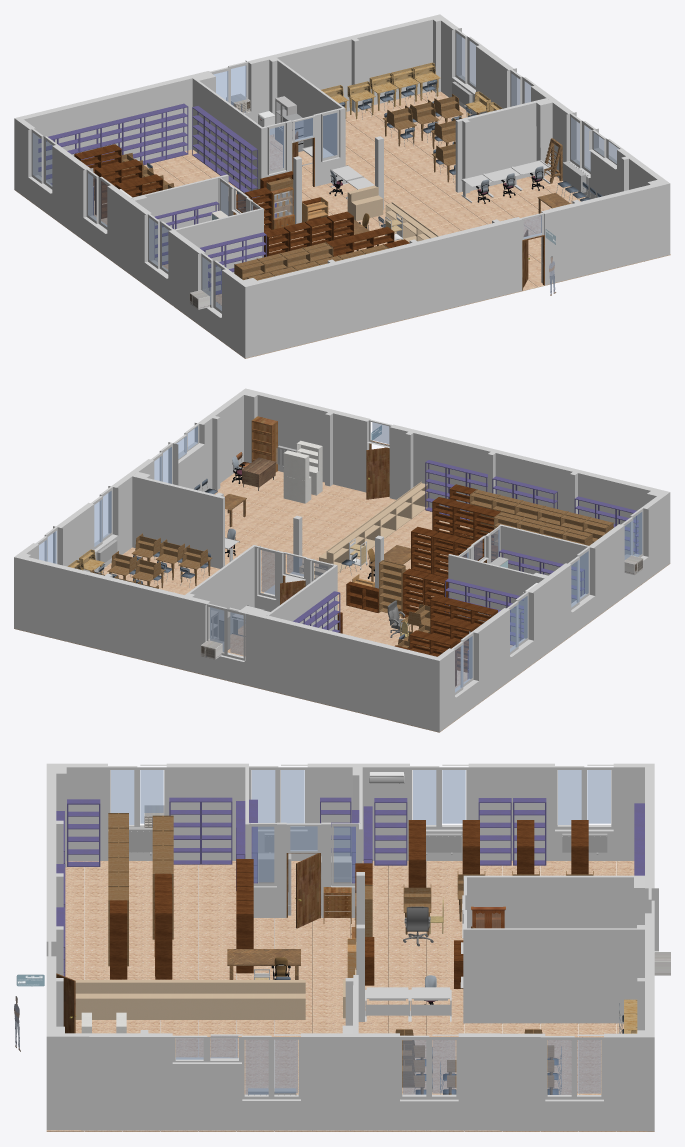
Rendered from current.glb.
The picture shows the model from 3 angles, top to bottom: view 1: azimuth 30°, elevation 25°; view 2: azimuth 150°, elevation 25°; view 3: azimuth 270°, elevation 25°; orthographic projection. The views are drawn at different scales.
Visible parts, largest first — view 1: Geom3D_WALL-EXT-W-001, Geom3D_WALL-EXT-E-001, Geom3D_WALL-EXT-N-001, Geom3D (×19), 3DGeom-1015, Geom3D_CMP_WIN-170X200_WIN-170X200-002 (×8), 3DGeom-1014, Geom3D_WALL-EXT-S-001, Geom3D_WALL-PART-LIB-001, Geom3D_CMP_BS-WD-DS2_BS-WD-DS2-001 (×6), Geom3D_WALL-INT-LIBRARIAN-N-001, Geom3D_WALL-INT-ARCHIVE-W-001 (+13 smaller); view 2: Geom3D_WALL-EXT-E-001, Geom3D_WALL-EXT-W-001, Geom3D_WALL-EXT-N-001, 3DGeom-1014, Geom3D (×11), Geom3D_WALL-EXT-S-001, Geom3D_CMP_WIN-170X200_WIN-170X200-002 (×8), Geom3D_WALL-PART-LIB-001, Geom3D_CMP_BS-WD-DS2_BS-WD-DS2-001 (×5), Geom3D_WALL-INT-ARCHIVE-E-001, Geom3D_WALL-INT-ARCHIVE-W-001, Geom3D_WALL-INT-LIBRARIAN-S-001 (+14 smaller); view 3: Geom3D_WALL-EXT-S-001, Geom3D (×21), Geom3D_WALL-EXT-N-001, 3DGeom-1016, Geom3D_WALL-INT-LIBRARIAN-S-001, 3DGeom-1013, Geom3D_Component#32 (×6), 3DGeom-1014, Geom3D_CMP_WIN-170X200_WIN-170X200-002 (×8), 3DGeom-1015, Geom3D_WALL-INT-LIBRARIAN-N-001, Geom3D_CMP_BS-WD-DS2_BS-WD-DS2-001 (×5) (+11 smaller).
Boxes of the visible parts, <box> form: Geom3D_WALL-EXT-W-001: <box>245,182,670,358</box>; Geom3D_WALL-EXT-E-001: <box>15,14,439,183</box>; Geom3D_WALL-EXT-N-001: <box>14,118,246,357</box>; Geom3D (×19): <box>32,33,590,310</box>; 3DGeom-1015: <box>269,91,471,220</box>; Geom3D_CMP_WIN-170X200_WIN-170X200-002 (×8): <box>28,28,595,317</box>; 3DGeom-1014: <box>357,174,670,306</box>; Geom3D_WALL-EXT-S-001: <box>438,14,669,198</box>; Geom3D_WALL-PART-LIB-001: <box>455,98,547,192</box>; Geom3D_CMP_BS-WD-DS2_BS-WD-DS2-001 (×6): <box>95,164,353,257</box>; Geom3D_WALL-INT-LIBRARIAN-N-001: <box>192,77,262,196</box>; Geom3D_WALL-INT-ARCHIVE-W-001: <box>174,208,263,291</box>; Geom3D_WALL-EXT-E-001: <box>14,556,439,732</box>; Geom3D_WALL-EXT-W-001: <box>245,388,669,554</box>; Geom3D_WALL-EXT-N-001: <box>438,492,670,731</box>; 3DGeom-1014: <box>214,467,443,595</box>; Geom3D (×11): <box>94,440,642,692</box>; Geom3D_WALL-EXT-S-001: <box>14,388,247,572</box>; Geom3D_CMP_WIN-170X200_WIN-170X200-002 (×8): <box>35,442,648,697</box>; Geom3D_WALL-PART-LIB-001: <box>132,475,224,568</box>; Geom3D_CMP_BS-WD-DS2_BS-WD-DS2-001 (×5): <box>402,526,477,672</box>; Geom3D_WALL-INT-ARCHIVE-E-001: <box>456,556,545,641</box>; Geom3D_WALL-INT-ARCHIVE-W-001: <box>501,524,588,603</box>; Geom3D_WALL-INT-LIBRARIAN-S-001: <box>185,545,254,634</box>; Geom3D_WALL-EXT-S-001: <box>46,1033,654,1131</box>; Geom3D (×21): <box>56,770,610,1094</box>; Geom3D_WALL-EXT-N-001: <box>47,763,653,860</box>; 3DGeom-1016: <box>65,861,350,994</box>; Geom3D_WALL-INT-LIBRARIAN-S-001: <box>463,928,644,1023</box>; 3DGeom-1013: <box>350,861,634,994</box>; Geom3D_Component#32 (×6): <box>74,980,305,1019</box>; 3DGeom-1014: <box>46,994,350,1131</box>; Geom3D_CMP_WIN-170X200_WIN-170X200-002 (×8): <box>108,764,658,1101</box>; 3DGeom-1015: <box>350,994,654,1131</box>; Geom3D_WALL-INT-LIBRARIAN-N-001: <box>464,875,644,928</box>; Geom3D_CMP_BS-WD-DS2_BS-WD-DS2-001 (×5): <box>236,833,588,973</box>.
Size of the model in its own units: 19.29 by 3.04 by 19.01.
Materials: 82 (42 with a texture image).
